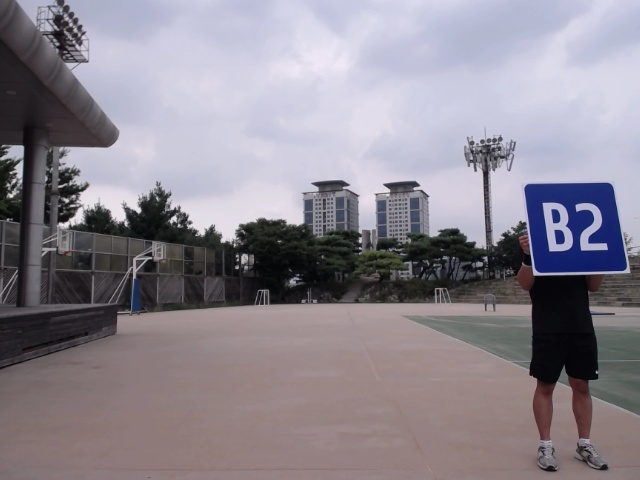delivery_b2: (522, 178, 630, 275)
